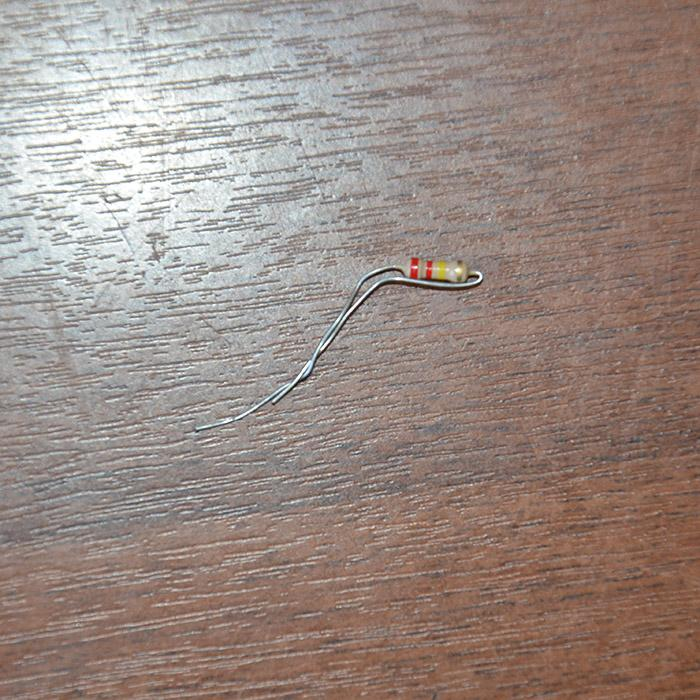resistor: (403, 258, 472, 284)
